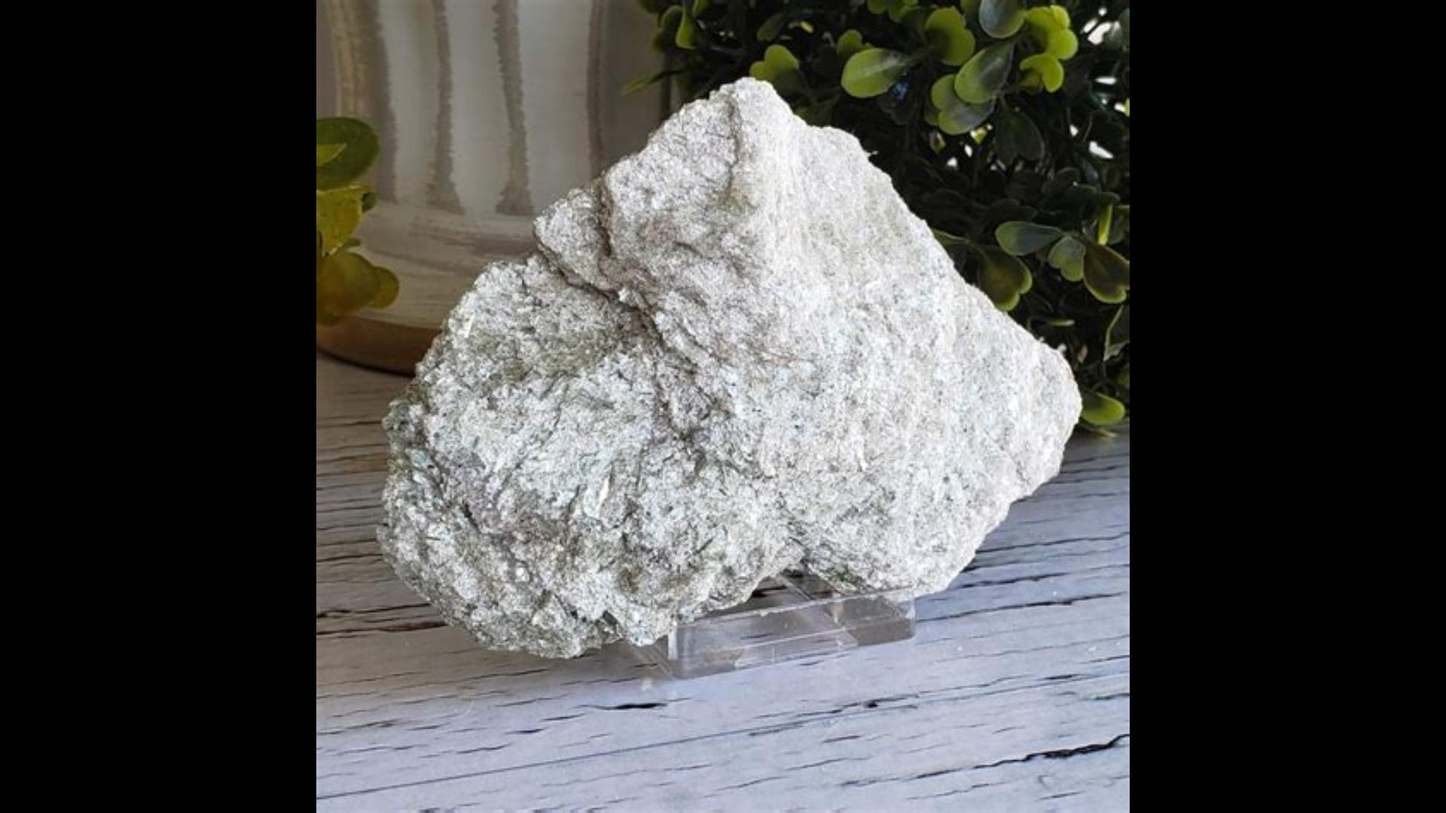rock: (380, 79, 1078, 655)
